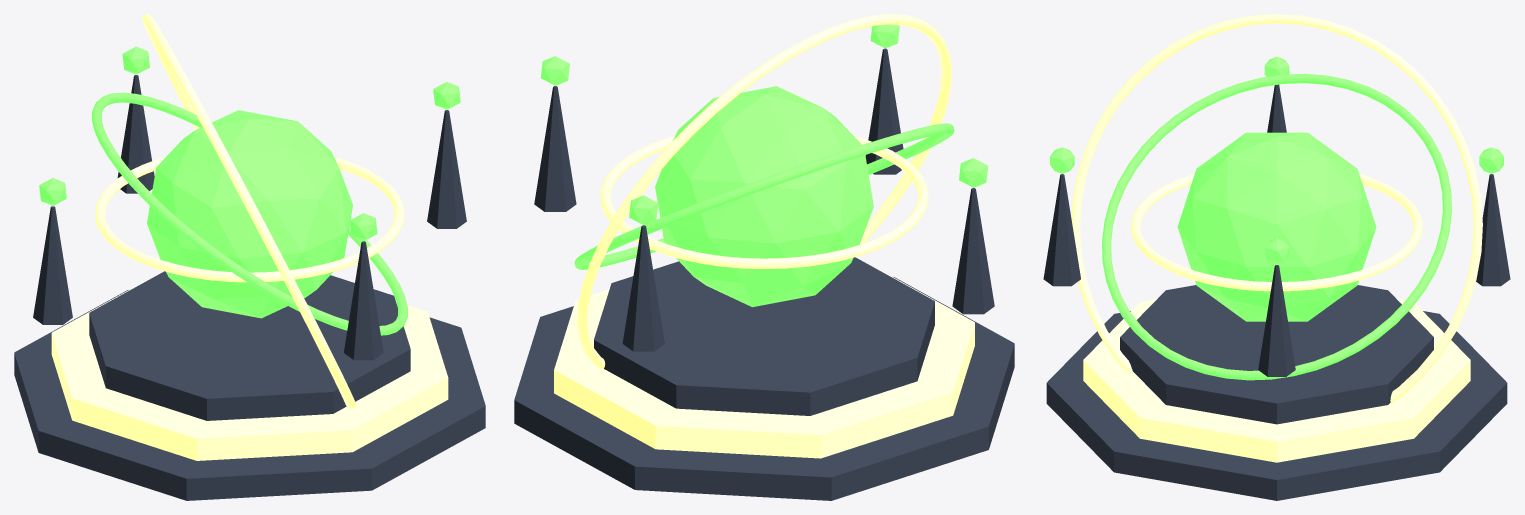
The model's file is gpu-blender-v4.glb.
3 renders of one model, left to right at view 1: azimuth 30°, elevation 25°; view 2: azimuth 150°, elevation 25°; view 3: azimuth 270°, elevation 25°, orthographic. The views are drawn at different scales.
Parts seen in each view (by area): view 1: Cylinder.002, SovereignCore_1nc0gn30, Cylinder, Cylinder.001, Torus.001, Torus.002, Torus, Cone.003, Cone, Cone.002, Cone.001, Icosphere.002 (+3 smaller); view 2: Cylinder.002, SovereignCore_1nc0gn30, Cylinder, Cylinder.001, Torus.002, Torus, Torus.001, Cone.002, Cone.001, Cone, Cone.003, Icosphere (+3 smaller); view 3: SovereignCore_1nc0gn30, Cylinder.002, Cylinder, Cylinder.001, Torus.001, Torus.002, Torus, Cone.003, Cone, Cone.001, Cone.002, Icosphere (+2 smaller).
Boxes of the visible parts, x1,y1,x2,y2 form: Cylinder.002: (89, 271, 410, 420); SovereignCore_1nc0gn30: (147, 110, 352, 318); Cylinder: (14, 290, 485, 500); Cylinder.001: (51, 280, 448, 460); Torus.001: (92, 92, 407, 335); Torus.002: (142, 14, 356, 408); Torus: (95, 157, 404, 282); Cone.003: (343, 241, 383, 360); Cone: (427, 110, 466, 228); Cone.002: (33, 206, 72, 324); Cone.001: (117, 75, 154, 193); Icosphere.002: (39, 178, 66, 205); Cylinder.002: (594, 257, 934, 415); SovereignCore_1nc0gn30: (655, 86, 873, 307); Cylinder: (514, 277, 1014, 500); Cylinder.001: (554, 266, 974, 458); Torus.002: (577, 14, 951, 369); Torus: (600, 136, 928, 268); Torus.001: (574, 123, 954, 269); Cone.002: (952, 188, 994, 314); Cone.001: (622, 225, 664, 351); Cone: (534, 86, 576, 211); Cone.003: (865, 48, 903, 174); Icosphere: (540, 56, 569, 85); SovereignCore_1nc0gn30: (1177, 132, 1376, 321); Cylinder.002: (1120, 285, 1433, 424); Cylinder: (1046, 311, 1507, 500); Cylinder.001: (1083, 299, 1470, 462); Torus.001: (1102, 73, 1451, 380); Torus.002: (1071, 14, 1482, 403); Torus: (1131, 174, 1422, 291); Cone.003: (1043, 174, 1080, 286); Cone: (1258, 265, 1295, 376); Cone.001: (1476, 174, 1510, 286); Cone.002: (1267, 84, 1286, 132); Icosphere: (1264, 238, 1289, 264).
Size of the model in its own units: 4.41 by 3.72 by 4.46.
